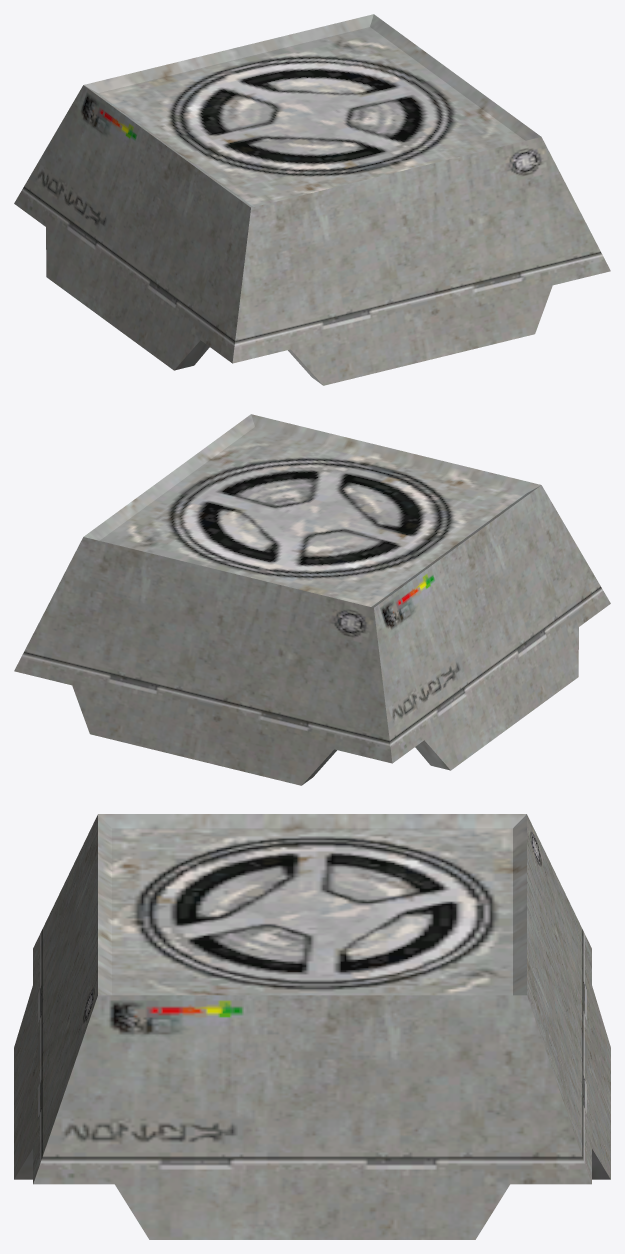
File: con_gen_energy_radioactive_l0.fbx
The picture shows the model from 3 angles, top to bottom: view 1: azimuth 30°, elevation 25°; view 2: azimuth 150°, elevation 25°; view 3: azimuth 270°, elevation 25°; orthographic projection. The views are drawn at different scales.
Parts seen in each view (by area): view 1: mesh_node; view 2: mesh_node; view 3: mesh_node.
Part boxes in pixels (x1,y1,x2,y2): mesh_node: (14, 14, 610, 385); mesh_node: (14, 414, 610, 785); mesh_node: (14, 814, 610, 1239).
Bounding box in the file's own units: 2.14 × 0.8262 × 2.14.
